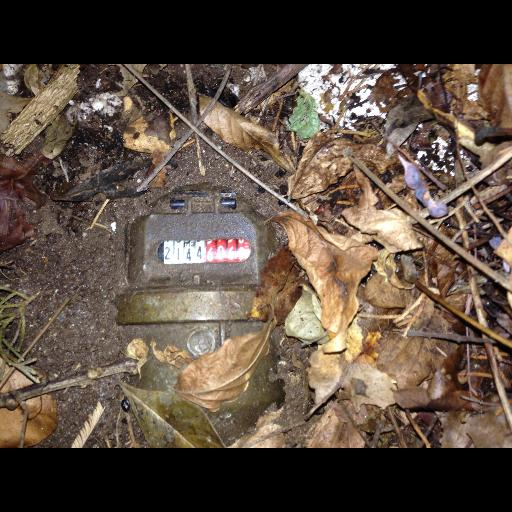0: (216, 239, 227, 263)
1: (174, 240, 184, 264)
2: (164, 240, 173, 264)
4: (184, 241, 194, 264), (195, 240, 205, 263)
6: (226, 239, 237, 263), (205, 239, 215, 263)
9: (236, 236, 252, 262)
border_water_meter_number: (155, 237, 251, 265)
